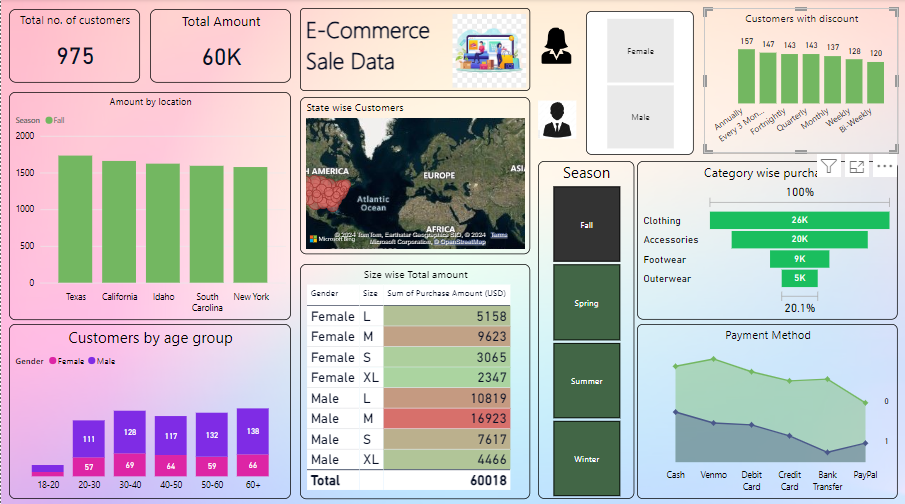

This screenshot's page, from the dashboard's own definition file:
{"tool":"powerbi","page":{"name":"Page 1","canvas":[1280,720],"ordinal":0},"visuals":[{"type":"columnChart","title":"Customers by age group","fields":{"Y":["Count(customer_details.Customer ID)"],"Series":["customer_details.Gender"],"Category":["customer_details.Age group"]},"box":[11.3,458.8,398.1,247.1],"z":0},{"type":"card","title":"Total no. of customers","fields":{"Values":["CountNonNull(customer_details.Customer ID)"]},"box":[11.3,14.1,184.9,104.5],"z":1000},{"type":"card","title":"Total Amount","fields":{"Values":["Sum(customer_details.Purchase Amount (USD))"]},"box":[210.4,14.1,199.1,104.5],"z":2000},{"type":"columnChart","title":"Age wise Amount","fields":{"Category":["customer_details.Age group"],"Y":["Sum(customer_details.Purchase Amount (USD))"],"Series":["customer_details.Gender"]},"box":[900.7,458.8,369.9,247.1],"z":3000},{"type":"funnel","title":"Category wise purchase","fields":{"Category":["customer_details.Category"],"Y":["Sum(customer_details.Purchase Amount (USD))"]},"box":[897.9,228.7,368.5,224.5],"z":4000},{"type":"slicer","title":"Season","fields":{"Values":["customer_details.Season"]},"box":[758.1,228.7,135.5,477.2],"z":5000},{"type":"clusteredColumnChart","title":"Amount by location","fields":{"Category":["customer_details.Location"],"Y":["Sum(customer_details.Purchase Amount (USD))"],"Series":["customer_details.Season"]},"box":[11.3,131.3,398.1,321.9],"z":6000},{"type":"map","title":"State wise Customers","fields":{"Category":["customer_details.States"],"Size":["CountNonNull(customer_details.Customer ID)"]},"box":[422.1,138.4,324.7,221.6],"z":7000},{"type":"tableEx","title":"Size wise Total amount","fields":{"Values":["customer_details.Gender","customer_details.Size","Sum(customer_details.Purchase Amount (USD))"]},"box":[422.1,374.1,324.7,331.8],"z":8000},{"type":"donutChart","title":"Customers with discount","fields":{"Y":["CountNonNull(customer_details.Customer ID)"],"Category":["customer_details.discount"],"Series":["customer_details.Gender"]},"box":[1037.6,12.7,228.7,204.7],"z":8001},{"type":"image","box":[758.1,32.5,52.2,67.8],"z":8006},{"type":"image","box":[748.2,138.4,73.4,63.5],"z":8007},{"type":"slicer","fields":{"Values":["customer_details.Gender"]},"box":[825.9,16.9,190.6,203.3],"z":8008},{"type":"textbox","box":[422.1,12.7,324.7,117.2],"z":8009},{"type":"image","box":[632.5,14.1,114.4,117.2],"z":8010}]}

Visuals, with their boxes in screenshot pixels (x1, y1, x2, y2), scaled from the page's 1280x720 canvas onto the 905x504 screenshot:
"Customers by age group" columnChart: locate(8, 321, 289, 494)
"Total no. of customers" card: locate(8, 10, 139, 83)
"Total Amount" card: locate(149, 10, 290, 83)
"Age wise Amount" columnChart: locate(637, 321, 898, 494)
"Category wise purchase" funnel: locate(635, 160, 895, 317)
"Season" slicer: locate(536, 160, 632, 494)
"Amount by location" clusteredColumnChart: locate(8, 92, 289, 317)
"State wise Customers" map: locate(298, 97, 528, 252)
"Size wise Total amount" tableEx: locate(298, 262, 528, 494)
"Customers with discount" donutChart: locate(734, 9, 895, 152)
image: locate(536, 23, 573, 70)
image: locate(529, 97, 581, 141)
slicer - customer_details.Gender: locate(584, 12, 719, 154)
textbox: locate(298, 9, 528, 91)
image: locate(447, 10, 528, 92)
